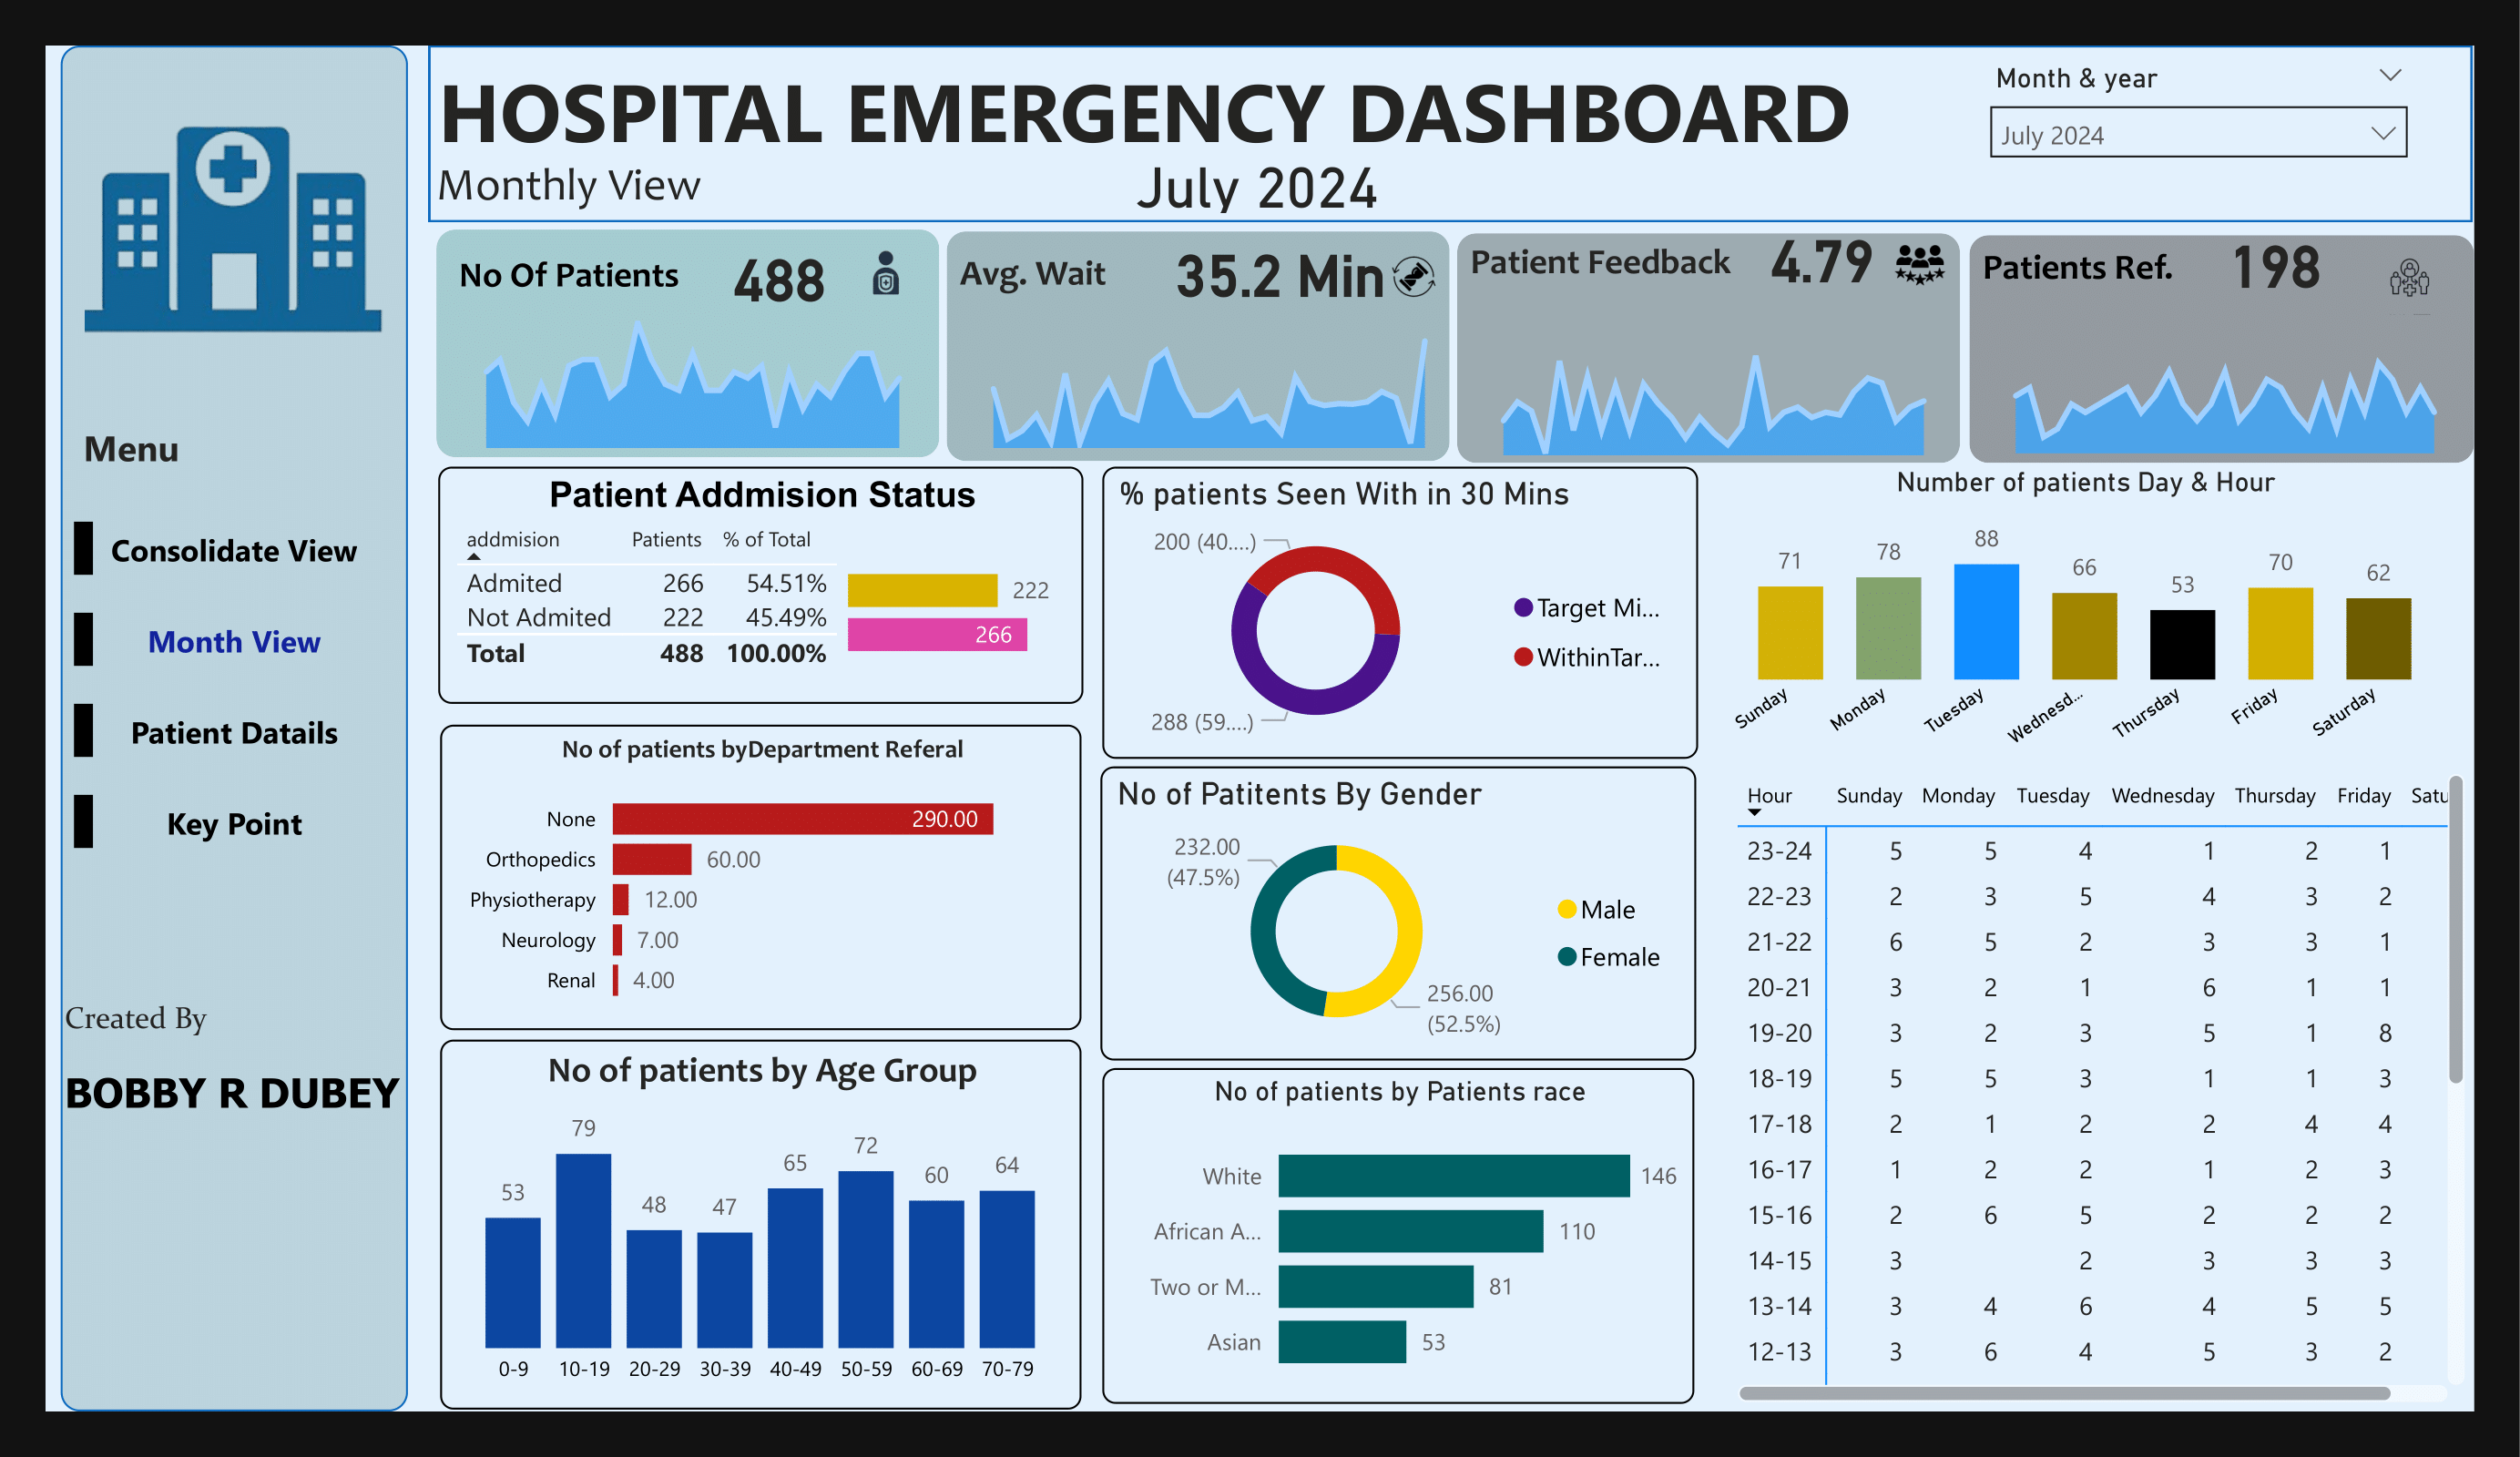

This screenshot's page, from the dashboard's own definition file:
{"tool":"powerbi","page":{"name":"Month View","canvas":[1280,720],"ordinal":1},"visuals":[{"type":"card","fields":{"Values":["Measure.Patient Satisfaction"]},"box":[889,91,95,41],"z":0,"group":"g1"},{"type":"card","fields":{"Values":["Measure.Patient Referd"]},"box":[1127,94,96,41],"z":0,"group":"g2"},{"type":"shape","box":[206.4,97.2,265,120],"z":0},{"type":"card","fields":{"Values":["Measure.Avg Wait Time"]},"box":[587,99,128,41],"z":0,"group":"g3"},{"type":"card","fields":{"Values":["Measure.Measure"]},"box":[342,101,90,41],"z":0,"group":"g4"},{"type":"shape","box":[8.5,0,182.4,719.8],"z":1000},{"type":"textbox","box":[746,97,173,43],"z":1000,"group":"g1"},{"type":"textbox","box":[1016,100,129,43],"z":1000,"group":"g2"},{"type":"textbox","box":[477,103,125,39],"z":1000,"group":"g3"},{"type":"textbox","box":[212.6,104.5,145.8,37.2],"z":1000,"group":"g4"},{"type":"shape","box":[201.7,0,1077.3,93],"z":2000},{"type":"areaChart","fields":{"Category":["Date_Table.Date.Variation.Date Hierarchy.Day"],"Y":["Avg(ER_Data.Patient_Waittime)"]},"box":[477,131.6,265.4,84.9],"z":2000,"group":"g3"},{"type":"areaChart","fields":{"Category":["Date_Table.Date.Variation.Date Hierarchy.Day"],"Y":["Measure.Measure"]},"box":[210,131.8,254.9,84.9],"z":2000,"group":"g4"},{"type":"areaChart","fields":{"Category":["Date_Table.Date.Variation.Date Hierarchy.Day"],"Y":["Measure.Patient Referd"]},"box":[1016,136,258,85],"z":2000,"group":"g2"},{"type":"areaChart","fields":{"Category":["Date_Table.Date.Variation.Date Hierarchy.Day"],"Y":["Measure.Patient Satisfaction"]},"box":[746.2,136.2,258.5,84.5],"z":2000,"group":"g1"},{"type":"textbox","box":[201.7,0,789.9,73.7],"z":3000},{"type":"textbox","box":[201.2,53.5,229.1,39.5],"z":4000},{"type":"slicer","fields":{"Values":["Date_Table.Month & year"]},"box":[1014.5,3.6,240.3,66.4],"z":5000},{"type":"card","fields":{"Values":["Measure.Measure"]},"box":[517.1,100.6,259.3,115.1],"z":6000},{"type":"shape","box":[475,98,265,121],"z":7000},{"type":"shape","box":[744.5,99,264.5,120.8],"z":8000},{"type":"shape","box":[1014.3,100.2,265.7,120],"z":9000},{"type":"group","id":"g1","title":"Group 2","box":[746,91,258.7,129.8],"z":10000},{"type":"card","fields":{"Values":["Min(Date_Table.Month & year)"]},"box":[512.8,53.5,252.3,39.5],"z":11000},{"type":"group","id":"g2","title":"Group 2","box":[1016,94,258,127],"z":11004,"group":"g5"},{"type":"group","id":"g3","title":"Group 1","box":[477,99,265,118],"z":12000},{"type":"group","id":"g4","title":"Group 1","box":[210,101,254.9,115.7],"z":13000},{"type":"group","id":"g5","title":"Group 1","box":[1016,94,258,127],"z":14000},{"type":"tableEx","title":"Patient Addmision Status","fields":{"Values":["ER_Data.addmision status","Measure.Number of patients","Divide(Measure.Number of patients, ScopedEval(Measure.Number of patients, []))"]},"box":[207.1,222.1,339.5,124.4],"z":15000},{"type":"clusteredColumnChart","title":"No of patients by Age Group","fields":{"Category":["ER_Data.Age_Group"],"Y":["Measure.Number of patients"]},"box":[207.5,524.2,338.9,194.9],"z":16000},{"type":"clusteredBarChart","title":"No of patients byDepartment Referal","fields":{"Y":["Measure.Number of patients"],"Category":["ER_Data.Department_Referral"]},"box":[207.5,358.1,338.9,160.5],"z":17000},{"type":"donutChart","title":"% patients Seen  With in 30 Mins","fields":{"Category":["ER_Data.Patient waiting"],"Y":["Measure.Number of patients"]},"box":[556.6,221.5,314.2,154.2],"z":18000},{"type":"donutChart","title":"No of Patitents By Gender","fields":{"Y":["Measure.Number of patients"],"Category":["ER_Data.Patient_Gender"]},"box":[555.9,379.8,314.6,155.1],"z":19000},{"type":"barChart","title":"No of patients by  Patients race","fields":{"Y":["Measure.Number of patients"],"Category":["ER_Data.Patient_Race"]},"box":[556.6,538.7,312.7,177.7],"z":20000},{"type":"clusteredColumnChart","title":"Number of patients Day & Hour","fields":{"Y":["Measure.Number of patients"],"Category":["Date_Table.Weekd"]},"box":[876.8,222.2,397.4,158.2],"z":21000},{"type":"pivotTable","fields":{"Rows":["ER_Data.HourInterval"],"Values":["Measure.Number of patients"],"Columns":["Date_Table.Weekd"]},"box":[886.5,379.2,393.7,340.6],"z":22000},{"type":"barChart","fields":{"Category":["ER_Data.addmision status"],"Y":["Measure.Number of patients"]},"box":[417.9,253.6,129.2,83.3],"z":23000},{"type":"image","box":[15.7,0,169.1,194.5],"z":24000},{"type":"pageNavigator","box":[15.1,251.2,168.6,172.1],"z":25000},{"type":"textbox","box":[15.1,194.2,84.9,41.9],"z":26000},{"type":"image","box":[415,97,56,48],"z":27000},{"type":"image","box":[698,98,46,48],"z":28000},{"type":"image","box":[962,88,52,55],"z":29000},{"type":"image","box":[1211,101,69,46],"z":30000},{"type":"textbox","box":[4.7,497.7,190.7,140.7],"z":31000}]}

Visuals, with their boxes on the page's 1280x720 design canvas (x1, y1, x2, y2). These are canvas units, not pixel positions in the 2520x1457 screenshot, which may show the page scaled, cropped or inside an application window:
card - Measure.Patient Satisfaction: [889,91,984,132]
card - Measure.Patient Referd: [1127,94,1223,135]
shape: [206,97,471,217]
card - Measure.Avg Wait Time: [587,99,715,140]
card - Measure.Measure: [342,101,432,142]
shape: [8,0,191,720]
textbox: [746,97,919,140]
textbox: [1016,100,1145,143]
textbox: [477,103,602,142]
textbox: [213,104,358,142]
shape: [202,0,1279,93]
areaChart - Date_Table.Date.Variation.Date Hierarchy.Day x Avg(ER_Data.Patient_Waittime): [477,132,742,216]
areaChart - Date_Table.Date.Variation.Date Hierarchy.Day x Measure.Measure: [210,132,465,217]
areaChart - Date_Table.Date.Variation.Date Hierarchy.Day x Measure.Patient Referd: [1016,136,1274,221]
areaChart - Date_Table.Date.Variation.Date Hierarchy.Day x Measure.Patient Satisfaction: [746,136,1005,221]
textbox: [202,0,992,74]
textbox: [201,54,430,93]
slicer - Date_Table.Month & year: [1014,4,1255,70]
card - Measure.Measure: [517,101,776,216]
shape: [475,98,740,219]
shape: [744,99,1009,220]
shape: [1014,100,1280,220]
"Group 2" group: [746,91,1005,221]
card - Min(Date_Table.Month & year): [513,54,765,93]
"Group 2" group: [1016,94,1274,221]
"Group 1" group: [477,99,742,217]
"Group 1" group: [210,101,465,217]
"Group 1" group: [1016,94,1274,221]
"Patient Addmision Status" tableEx: [207,222,547,346]
"No of patients by Age Group" clusteredColumnChart: [208,524,546,719]
"No of patients byDepartment Referal" clusteredBarChart: [208,358,546,519]
"% patients Seen  With in 30 Mins" donutChart: [557,222,871,376]
"No of Patitents By Gender" donutChart: [556,380,870,535]
"No of patients by  Patients race" barChart: [557,539,869,716]
"Number of patients Day & Hour" clusteredColumnChart: [877,222,1274,380]
pivotTable - ER_Data.HourInterval x Measure.Number of patients: [886,379,1280,720]
barChart - ER_Data.addmision status x Measure.Number of patients: [418,254,547,337]
image: [16,0,185,194]
pageNavigator: [15,251,184,423]
textbox: [15,194,100,236]
image: [415,97,471,145]
image: [698,98,744,146]
image: [962,88,1014,143]
image: [1211,101,1280,147]
textbox: [5,498,195,638]
